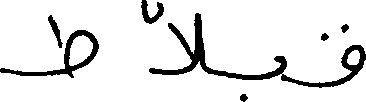ب: (233, 54, 285, 101)
ط: (0, 12, 99, 78)
ق: (316, 22, 364, 84)
لا: (149, 8, 204, 75)
